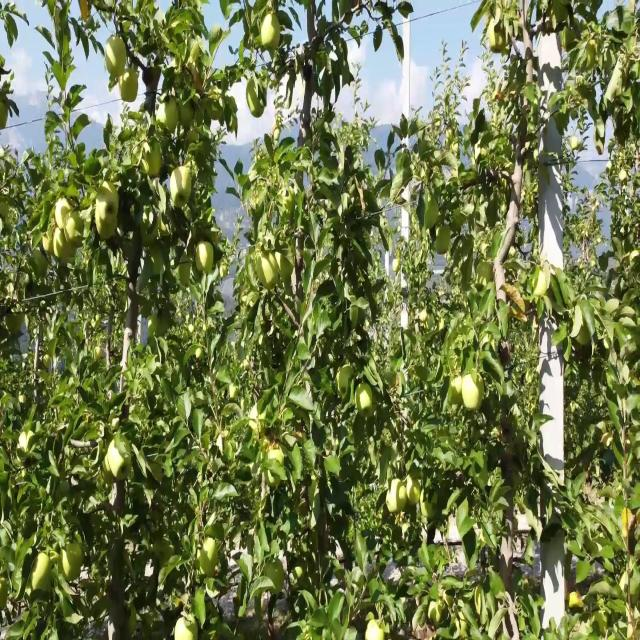apple: (96, 184, 120, 242), (104, 440, 132, 482), (104, 35, 128, 78), (172, 163, 193, 210), (56, 227, 79, 265), (64, 540, 84, 583), (260, 14, 282, 52), (32, 554, 54, 592), (464, 376, 485, 412), (260, 255, 279, 293), (120, 71, 140, 107), (144, 142, 163, 178), (160, 99, 179, 135), (196, 241, 215, 277), (573, 312, 592, 348), (356, 383, 375, 418), (140, 213, 158, 249), (96, 213, 118, 242), (32, 248, 51, 281), (248, 92, 267, 121), (448, 376, 464, 409), (152, 241, 167, 276), (144, 63, 161, 92), (180, 99, 196, 128), (436, 227, 452, 256), (392, 483, 408, 512), (124, 234, 140, 263), (56, 199, 71, 228), (492, 28, 507, 57), (8, 312, 25, 336), (408, 476, 421, 505), (624, 511, 637, 539), (44, 227, 55, 260), (368, 618, 385, 639), (0, 99, 10, 133), (180, 263, 193, 288), (192, 71, 205, 94), (208, 227, 221, 247), (0, 583, 8, 612), (80, 7, 92, 21), (220, 263, 229, 277), (376, 35, 384, 50)
